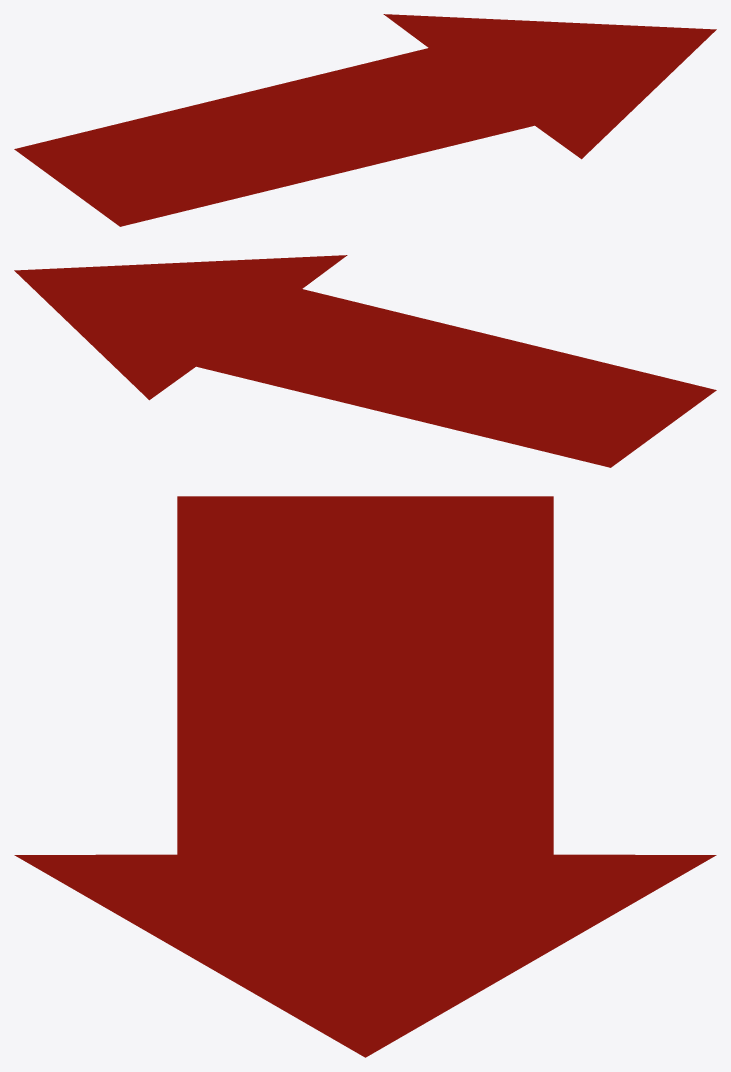
Rendered from Arrow.FBX.
The picture shows the model from 3 angles, top to bottom: view 1: azimuth 30°, elevation 25°; view 2: azimuth 150°, elevation 25°; view 3: azimuth 270°, elevation 25°; orthographic projection. The views are drawn at different scales.
Parts seen in each view (by area): view 1: Plane01; view 2: Plane01; view 3: Plane01.
Boxes of the visible parts, x1=… form: Plane01: x1=14, y1=14, x2=716, y2=226; Plane01: x1=14, y1=255, x2=716, y2=467; Plane01: x1=14, y1=496, x2=716, y2=1057.
Bounding box in the file's own units: 169 × 2.53e-14 × 89.43.
